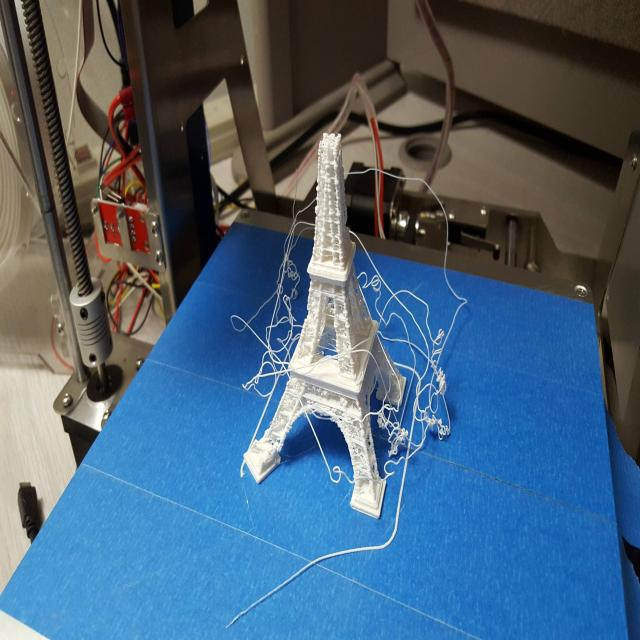spaghetti: (242, 128, 466, 498)
